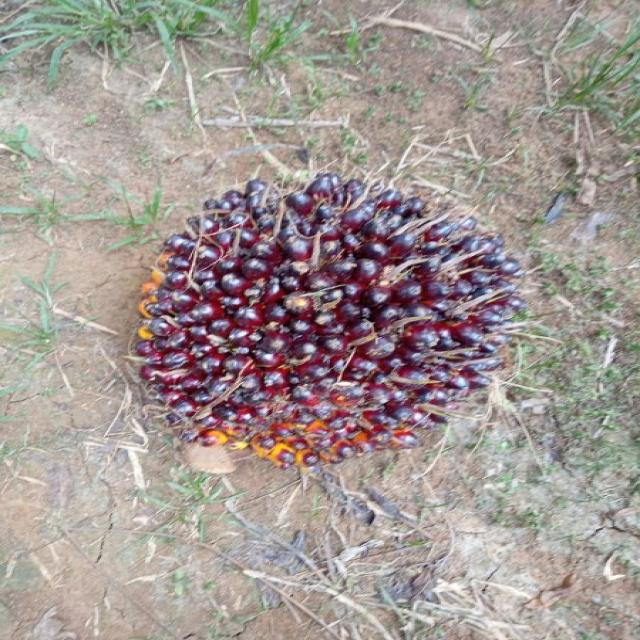fraksi 1: (89, 148, 571, 512)
